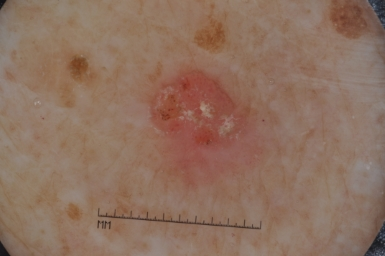seborrheic keratosis: (144, 63, 253, 155)
